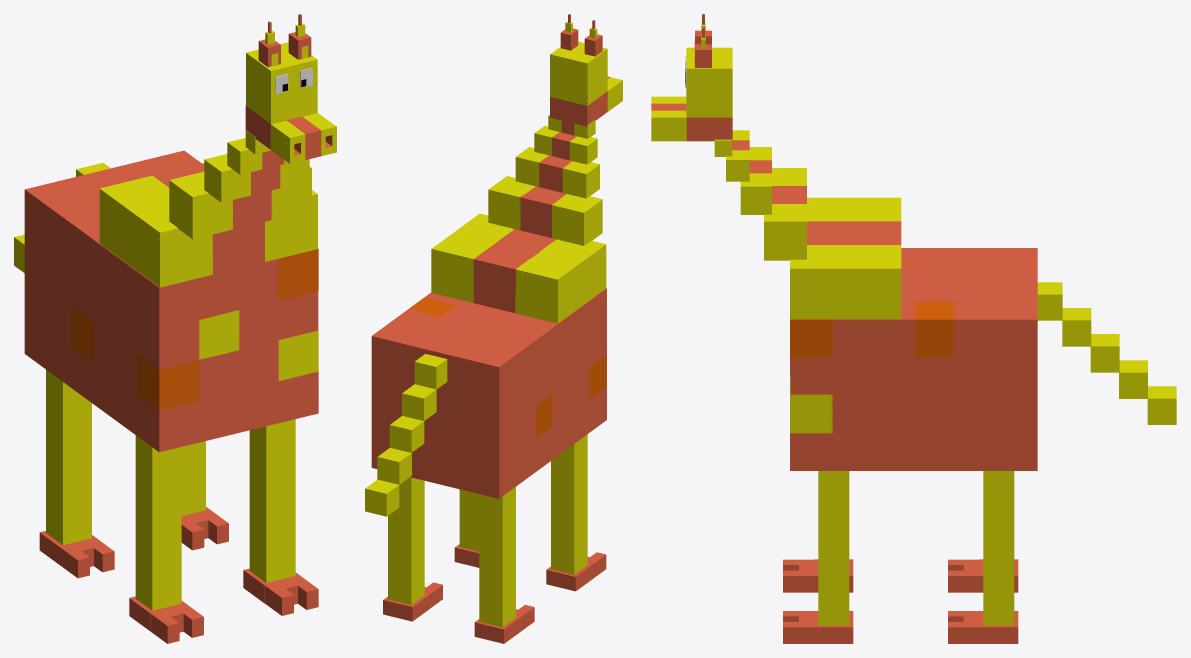
Rendered from giraffe.fbx.
3 views of the same model, side by side, from view 1: azimuth 30°, elevation 25°; view 2: azimuth 150°, elevation 25°; view 3: azimuth 270°, elevation 25° (orthographic). The views are drawn at different scales.
Parts seen in each view (by area): view 1: pCube537, pCube639, pCube629, pCube623, pCube593, pCube594, pCube603, pCube617, pCube618, pCube483, pCube519, pCube619 (+67 smaller); view 2: pCube629, pCube639, pCube630, pCube631, pCube588, pCube623, pCube537, pCube619, pCube604, pCube617, pCube552, pCube593 (+66 smaller); view 3: pCube630, pCube621, pCube639, pCube591, pCube587, pCube583, pCube624, pCube530, pCube498, pCube594, pCube604, pCube567 (+48 smaller).
Part boxes in pixels (x1,y1,x2,y2): pCube537: (129,200,212,287); pCube639: (246,42,317,123); pCube629: (99,175,169,264); pCube623: (169,171,232,239); pCube593: (135,541,181,610); pCube594: (249,513,295,582); pCube603: (46,475,91,544); pCube617: (135,484,181,552); pCube618: (249,456,295,524); pCube483: (137,394,199,452); pCube519: (136,270,199,329); pCube619: (46,419,91,488); pCube629: (515,252,582,323); pCube639: (550,41,607,105); pCube630: (431,231,497,302); pCube631: (473,242,539,312); pCube588: (467,346,517,399); pCube623: (552,194,602,245); pCube537: (539,239,606,305); pCube619: (479,526,515,582); pCube604: (388,549,424,604); pCube617: (551,473,587,529); pCube552: (467,453,517,498); pCube593: (551,519,587,574); pCube630: (845,245,901,319); pCube621: (790,245,846,319); pCube639: (686,47,732,117); pCube591: (995,301,1037,358); pCube587: (952,301,995,358); pCube583: (911,301,954,358); pCube624: (764,204,806,260); pCube530: (873,301,915,358); pCube498: (790,377,832,433); pCube594: (818,572,849,625); pCube604: (983,572,1014,625); pCube567: (995,394,1037,433).
Bounding box in the file's own units: 7.94 × 30.43 × 24.63.
